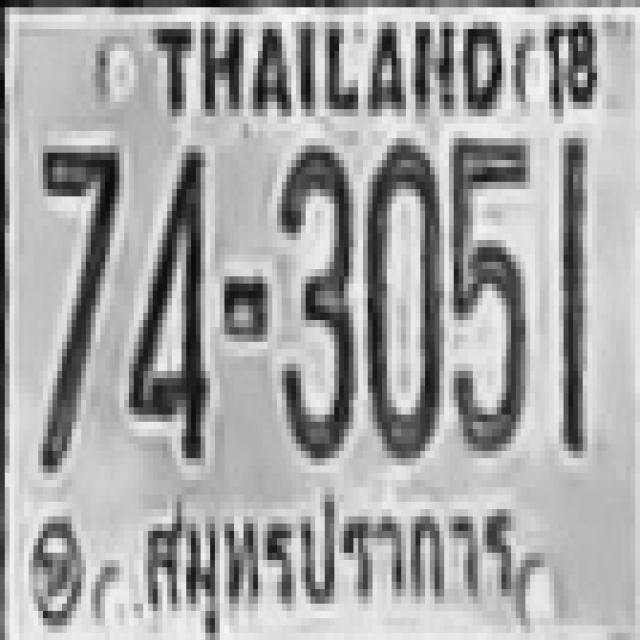0: (363, 138, 439, 451)
1: (556, 138, 585, 444), (556, 135, 585, 418)
3: (277, 138, 353, 451)
4: (124, 142, 206, 454)
5: (449, 131, 525, 451)
7: (39, 138, 120, 458), (39, 138, 120, 386), (39, 138, 120, 356)
SamutPrakan: (128, 483, 522, 636)
